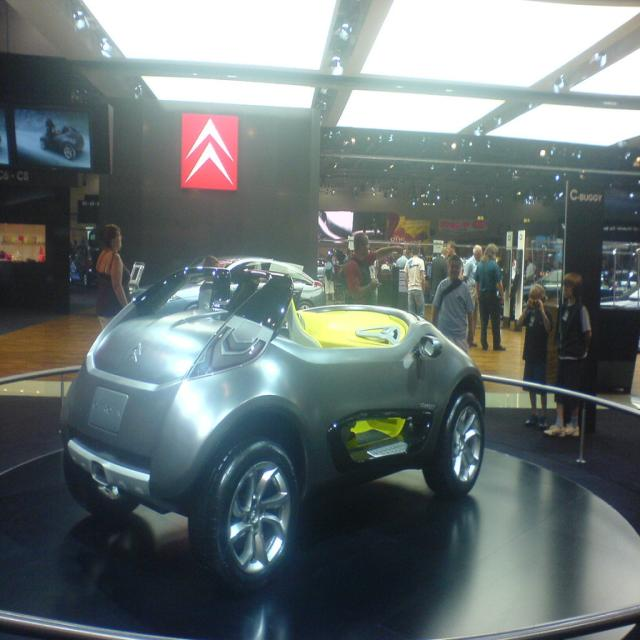car: (57, 266, 486, 591)
